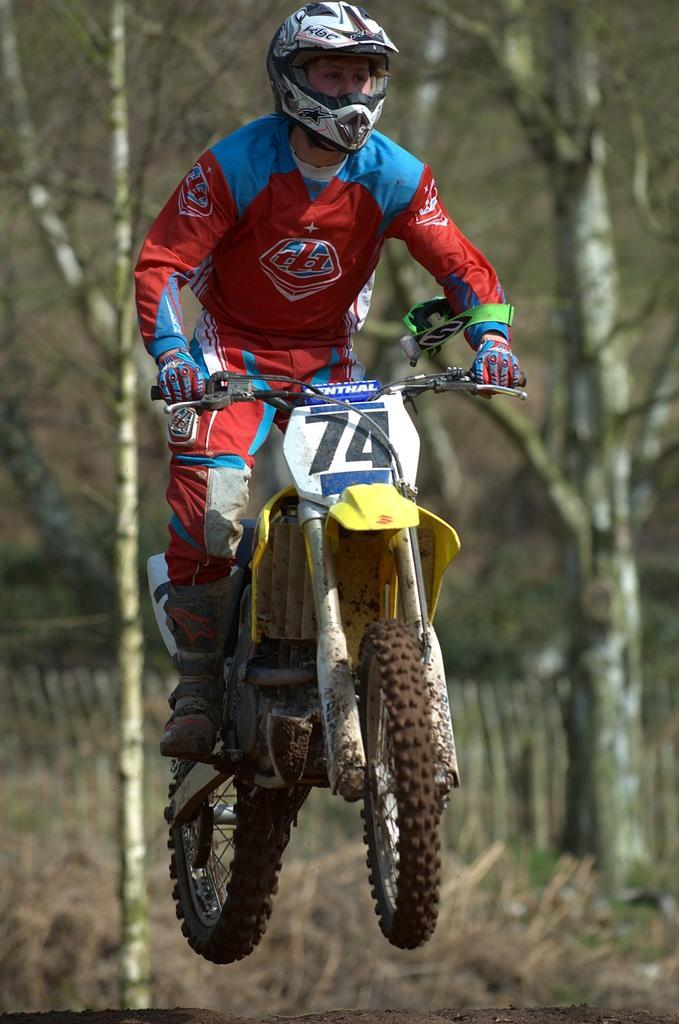helmet: (265, 0, 401, 155)
